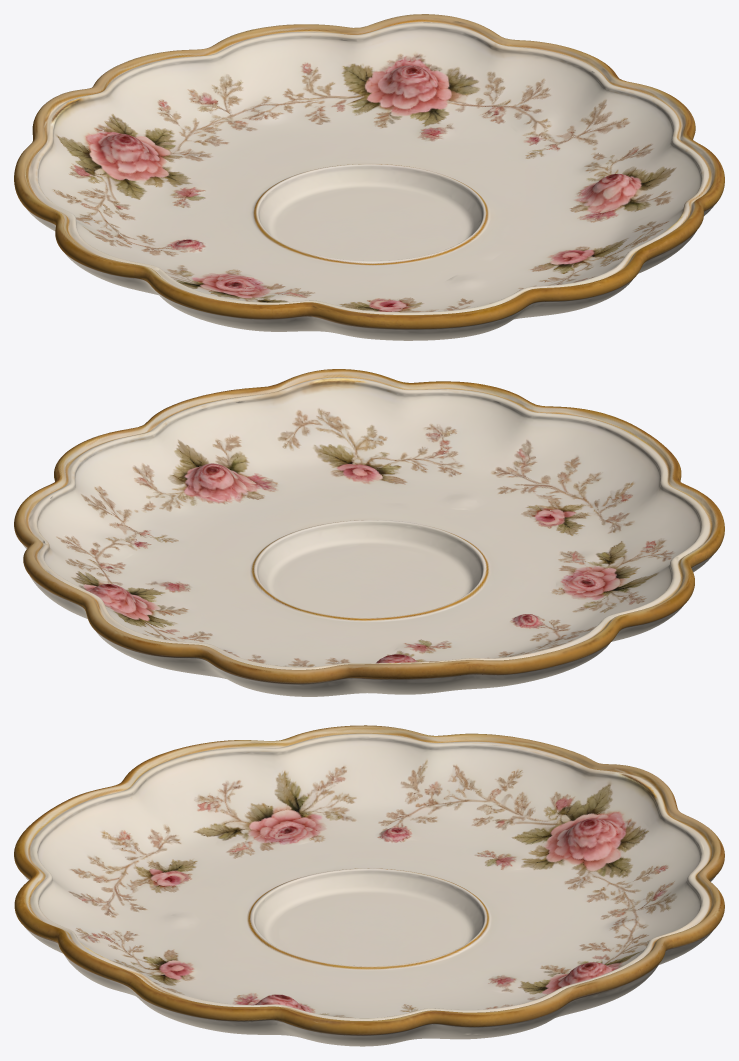
The model's file is tea sauce.glb.
3 views of the same model, one above another, from view 1: azimuth 30°, elevation 25°; view 2: azimuth 150°, elevation 25°; view 3: azimuth 270°, elevation 25° (orthographic).
Parts seen in each view (by area): view 1: Mesh_0; view 2: Mesh_0; view 3: Mesh_0.
Boxes of the visible parts, bbox=[...] form: Mesh_0: bbox=[14, 14, 724, 340]; Mesh_0: bbox=[14, 369, 724, 696]; Mesh_0: bbox=[14, 725, 724, 1046].
Size of the model in its own units: 1.18 by 0.1394 by 1.17.
Materials: 1 (1 with a texture image).
